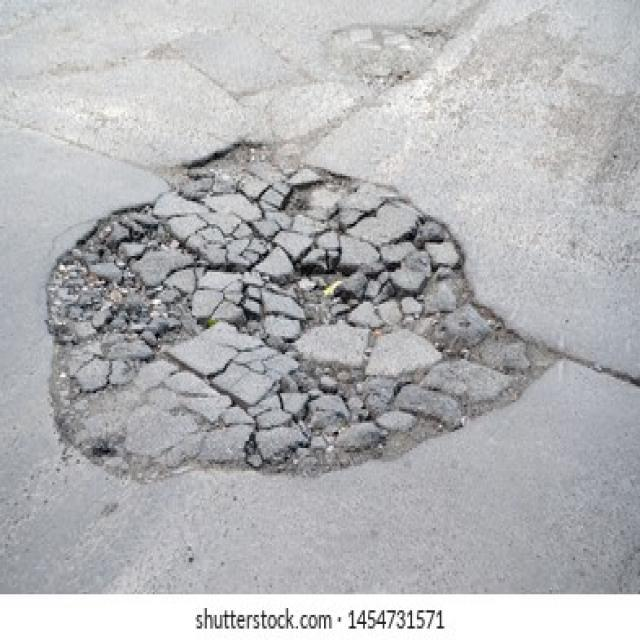Pothole: (44, 135, 559, 480), (327, 23, 451, 94)
